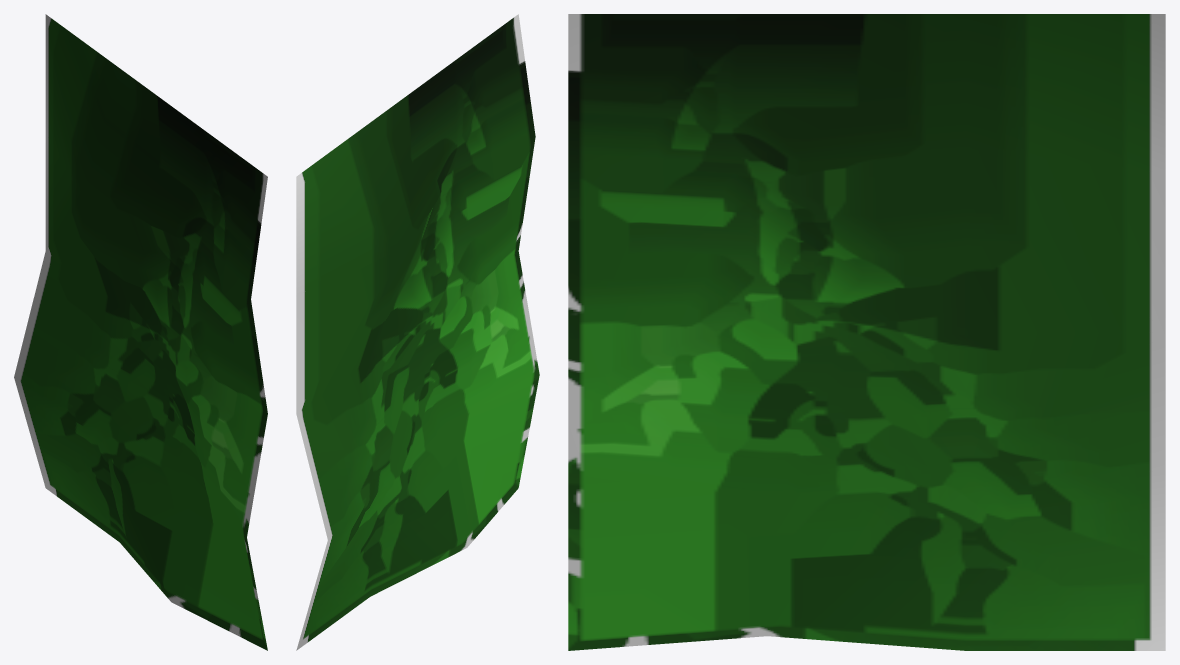
File: SM_Ivy001.FBX
The picture shows the model from 3 angles, left to right: view 1: azimuth 30°, elevation 25°; view 2: azimuth 150°, elevation 25°; view 3: azimuth 270°, elevation 25°; orthographic projection. The views are drawn at different scales.
Visible parts, largest first — view 1: Ivy001; view 2: Ivy001; view 3: Ivy001.
Boxes of the visible parts, x1,y1,x2,y2 form: Ivy001: [14, 14, 267, 650]; Ivy001: [296, 14, 539, 650]; Ivy001: [568, 14, 1165, 650].
Size of the model in its own units: 16.19 by 170 by 200.
